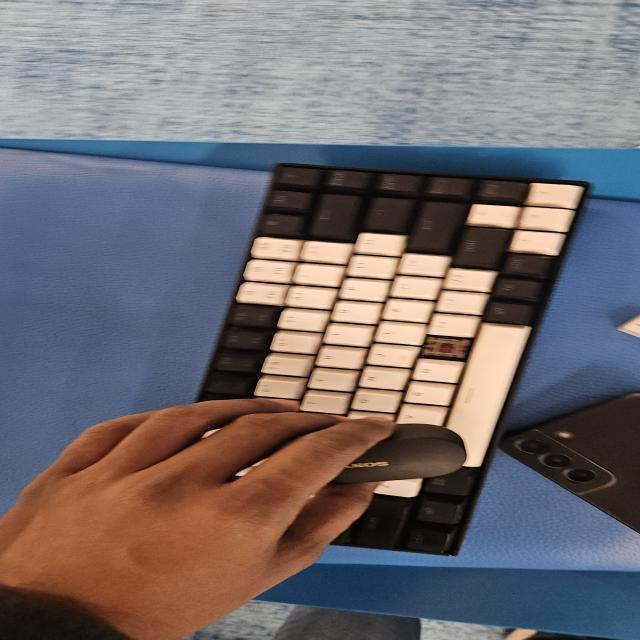C: (420, 336, 462, 358), (426, 341, 463, 358)
